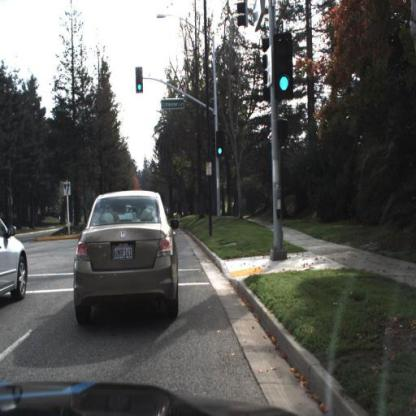car: (75, 187, 180, 325), (1, 211, 34, 306)
trafficLight: (273, 33, 295, 100), (216, 132, 225, 162), (136, 68, 145, 95)
